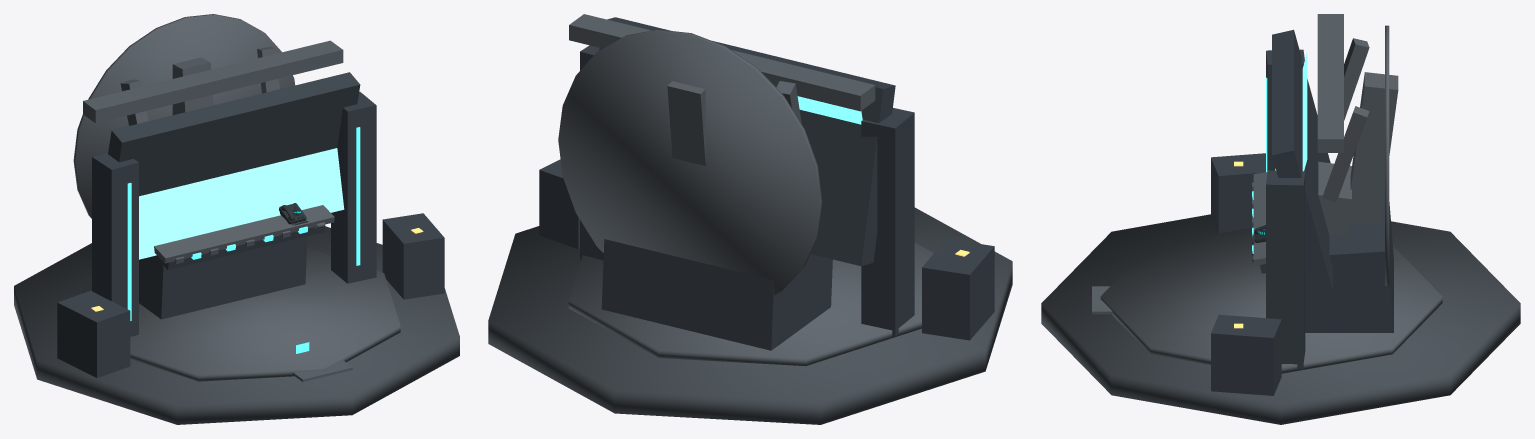
File: quest_base_scene_v1.glb
3 renders of one model, left to right at view 1: azimuth 30°, elevation 25°; view 2: azimuth 150°, elevation 25°; view 3: azimuth 270°, elevation 25°, orthographic. The views are drawn at different scales.
Visible parts, largest first — view 1: BasePlatform, InnerPlatform, MainPanelFrame, MainPanelScreen, RearHalo, MainPedestal, RightDataPylon, LeftDataPylon, OverheadBridge, LeftPlinth, RightPlinth, ConsoleShelf (+7 smaller); view 2: RearHalo, BasePlatform, MainPedestal, InnerPlatform, MainPanelFrame, LeftDataPylon, LeftPlinth, OverheadBridge, RearSpine, RightPlinth, MainPanelScreen, RightDataPylon; view 3: BasePlatform, InnerPlatform, MainPanelFrame, MainPedestal, RightDataPylon, RightPlinth, RearSpine, OverheadBridge, LeftPlinth, PedestalNeck, BridgeStrut_R, RearHalo (+4 smaller).
Part boxes in pixels (<box>): BasePlatform: <box>14,226,459,424</box>; InnerPlatform: <box>82,248,400,381</box>; MainPanelFrame: <box>108,72,360,196</box>; MainPanelScreen: <box>139,148,344,259</box>; RearHalo: <box>73,14,294,218</box>; MainPedestal: <box>139,236,307,319</box>; RightDataPylon: <box>331,91,376,283</box>; LeftDataPylon: <box>92,153,138,336</box>; OverheadBridge: <box>83,40,343,123</box>; LeftPlinth: <box>57,290,130,377</box>; RightPlinth: <box>382,213,444,299</box>; ConsoleShelf: <box>154,205,334,263</box>; RearHalo: <box>558,29,822,295</box>; BasePlatform: <box>488,207,1012,424</box>; MainPedestal: <box>601,239,832,350</box>; InnerPlatform: <box>568,243,933,366</box>; MainPanelFrame: <box>599,17,895,266</box>; LeftDataPylon: <box>861,108,914,336</box>; LeftPlinth: <box>922,239,994,340</box>; OverheadBridge: <box>569,14,875,111</box>; RearSpine: <box>667,81,705,165</box>; RightPlinth: <box>539,159,579,249</box>; MainPanelScreen: <box>797,96,862,124</box>; RightDataPylon: <box>580,45,603,260</box>; BasePlatform: <box>1041,214,1520,424</box>; InnerPlatform: <box>1100,227,1442,373</box>; MainPanelFrame: <box>1272,29,1332,297</box>; MainPedestal: <box>1305,190,1393,332</box>; RightDataPylon: <box>1266,170,1305,369</box>; RightPlinth: <box>1211,314,1281,395</box>; RearSpine: <box>1348,72,1398,224</box>; OverheadBridge: <box>1317,14,1343,152</box>; LeftPlinth: <box>1211,153,1265,233</box>; PedestalNeck: <box>1318,161,1351,235</box>; BridgeStrut_R: <box>1322,106,1369,202</box>; RearHalo: <box>1385,25,1389,285</box>.
Size of the model in its own units: 5.1 by 3.47 by 5.1.
Materials: 10 (1 with a texture image).
